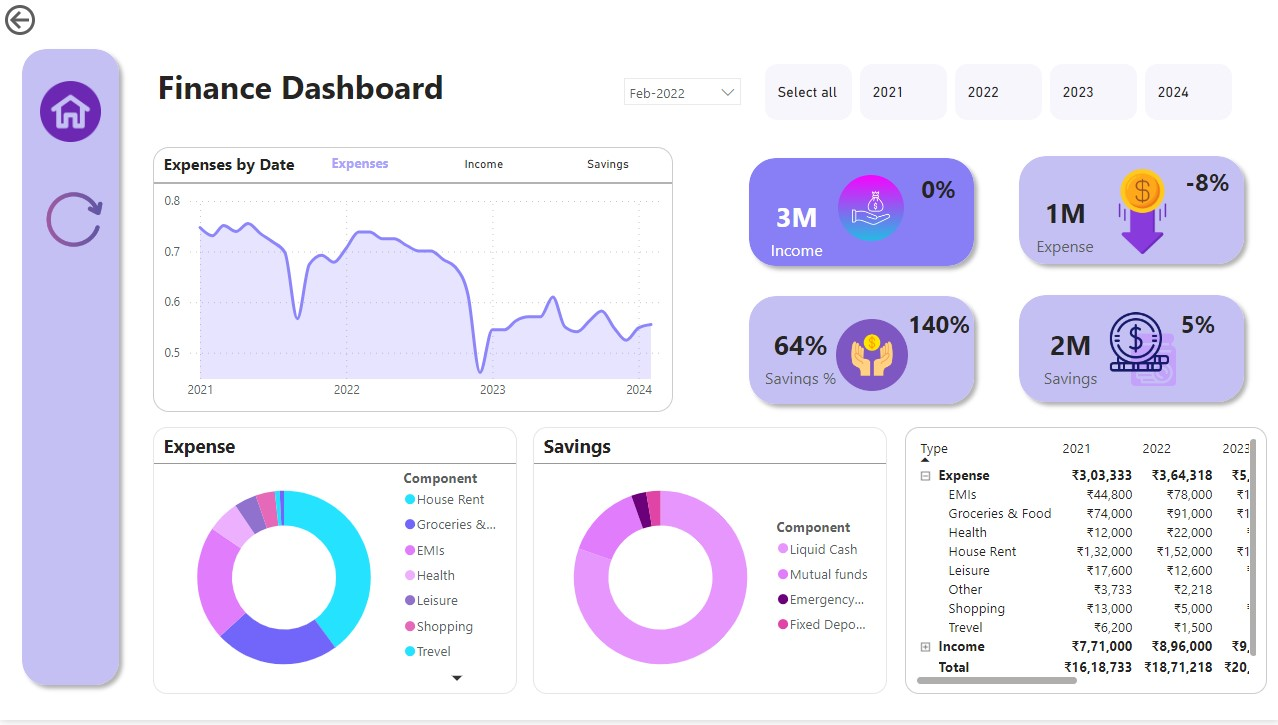

Layout of this report page (visuals, bound fields, positions):
{"tool":"powerbi","page":{"name":"Page 1","canvas":[1280,720],"ordinal":0},"visuals":[{"type":"shape","box":[740.4,149,243,125.9],"z":0},{"type":"shape","box":[1010,285.5,243,125.9],"z":1000},{"type":"shape","box":[740.4,287.3,243,125.9],"z":2000},{"type":"shape","box":[1010,147.2,243,125.9],"z":3000},{"type":"donutChart","title":"Expense","fields":{"Category":["Dataset.Component"],"Y":["Dataset.Expense"]},"box":[153.4,427.4,363.5,266.9],"z":4000},{"type":"card","fields":{"Values":["Dataset.Expenses"]},"box":[1018.8,186.2,92.2,75.4],"z":5000},{"type":"card","fields":{"Values":["Dataset.Savings"]},"box":[1030.3,320.1,80.7,72.7],"z":6000},{"type":"card","fields":{"Values":["Dataset.Income"]},"box":[751,189.8,91.3,76.3],"z":7000},{"type":"card","fields":{"Values":["Dataset.Savings %"]},"box":[751,321,99.3,70],"z":8000},{"type":"advancedSlicerVisual","fields":{"Values":["Dataset.Year"]},"box":[759.9,59.4,477,65.6],"z":9000},{"type":"donutChart","title":"Savings","fields":{"Y":["Dataset.Savings"],"Category":["Dataset.Component"]},"box":[532.9,427.4,353.8,266.9],"z":10000},{"type":"areaChart","fields":{"Category":["Dataset.Date"],"Y":["Dataset.Line_Chart_Measures"]},"box":[153.4,147.2,519.6,265.1],"z":11000},{"type":"pivotTable","fields":{"Values":["Dataset.Total_Value"],"Rows":["Dataset.Type","Dataset.Component"],"Columns":["Dataset.Year"]},"box":[905.3,427.4,361.8,266.9],"z":12000},{"type":"advancedSlicerVisual","fields":{"Values":["Line_Selection_Table.Type"]},"box":[295.3,147.2,379.5,34.6],"z":13000},{"type":"textbox","box":[153.4,59.4,369.8,60.3],"z":14000},{"type":"slicer","fields":{"Values":["Selected_Date.Month-Yr"]},"box":[613.6,68.3,137.4,47],"z":15000},{"type":"card","fields":{"Values":["Dataset.Expense Monthly Growth"]},"box":[1148.3,149.9,118.8,64.7],"z":16000},{"type":"actionButton","box":[0,0,100,40],"z":17000},{"type":"card","fields":{"Values":["Dataset.Savings Monthly Growth"]},"box":[1143,293.5,110,62.1],"z":18000},{"type":"card","fields":{"Values":["Dataset.Income Monthly Growth"]},"box":[886.7,149,103.7,81.6],"z":19000},{"type":"card","fields":{"Values":["Dataset.ex_vs_sav"]},"box":[894.7,292.6,88.7,63.8],"z":20000},{"type":"shape","box":[13.3,39.9,114.4,654.4],"z":21000},{"type":"image","box":[833.5,164.9,75.4,85.1],"z":22000},{"type":"image","box":[1091.5,158.7,102,105.5],"z":23000},{"type":"image","box":[825.5,313.9,92.2,82.5],"z":24000},{"type":"image","box":[1099.5,305,86.9,87.8],"z":25000},{"type":"image","box":[33.7,76.3,74.5,70.9],"z":26000},{"type":"actionButton","box":[33.4,179.6,74.7,77.9],"z":27000},{"type":"image","box":[33.4,173.2,82.6,92.2],"z":28000}]}

Visuals, with their boxes on the page's 1280x720 design canvas (x1, y1, x2, y2). These are canvas units, not pixel positions in the 1278x725 screenshot, which may show the page scaled, cropped or inside an application window:
shape: box=[740, 149, 983, 275]
shape: box=[1010, 286, 1253, 411]
shape: box=[740, 287, 983, 413]
shape: box=[1010, 147, 1253, 273]
"Expense" donutChart: box=[153, 427, 517, 694]
card - Dataset.Expenses: box=[1019, 186, 1111, 262]
card - Dataset.Savings: box=[1030, 320, 1111, 393]
card - Dataset.Income: box=[751, 190, 842, 266]
card - Dataset.Savings %: box=[751, 321, 850, 391]
advancedSlicerVisual - Dataset.Year: box=[760, 59, 1237, 125]
"Savings" donutChart: box=[533, 427, 887, 694]
areaChart - Dataset.Date x Dataset.Line_Chart_Measures: box=[153, 147, 673, 412]
pivotTable - Dataset.Total_Value x Dataset.Type: box=[905, 427, 1267, 694]
advancedSlicerVisual - Line_Selection_Table.Type: box=[295, 147, 675, 182]
textbox: box=[153, 59, 523, 120]
slicer - Selected_Date.Month-Yr: box=[614, 68, 751, 115]
card - Dataset.Expense Monthly Growth: box=[1148, 150, 1267, 215]
actionButton: box=[0, 0, 100, 40]
card - Dataset.Savings Monthly Growth: box=[1143, 294, 1253, 356]
card - Dataset.Income Monthly Growth: box=[887, 149, 990, 231]
card - Dataset.ex_vs_sav: box=[895, 293, 983, 356]
shape: box=[13, 40, 128, 694]
image: box=[834, 165, 909, 250]
image: box=[1092, 159, 1194, 264]
image: box=[826, 314, 918, 396]
image: box=[1100, 305, 1186, 393]
image: box=[34, 76, 108, 147]
actionButton: box=[33, 180, 108, 258]
image: box=[33, 173, 116, 265]
